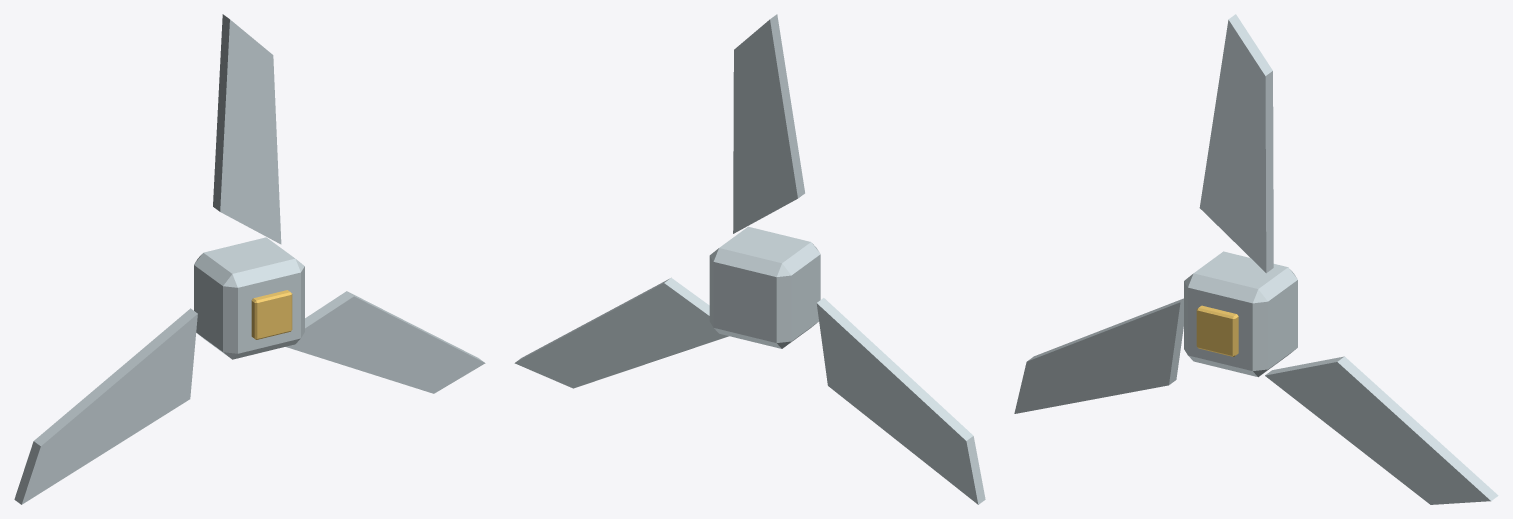
Rendered from wind-turbine-rotor.glb.
The picture shows the model from 3 angles, left to right: view 1: azimuth 30°, elevation 25°; view 2: azimuth 150°, elevation 25°; view 3: azimuth 330°, elevation 25°; orthographic projection. The views are drawn at different scales.
Parts seen in each view (by area): view 1: Swept rotor blade.003, Gold rotor cap.001; view 2: Swept rotor blade.003; view 3: Swept rotor blade.003, Gold rotor cap.001.
Boxes of the visible parts, bbox=[...] form: Swept rotor blade.003: bbox=[14, 14, 485, 504]; Gold rotor cap.001: bbox=[251, 290, 292, 339]; Swept rotor blade.003: bbox=[514, 14, 985, 504]; Swept rotor blade.003: bbox=[1014, 14, 1498, 504]; Gold rotor cap.001: bbox=[1196, 305, 1238, 356].
Bounding box in the file's own units: 0.7361 × 0.6592 × 0.124.
